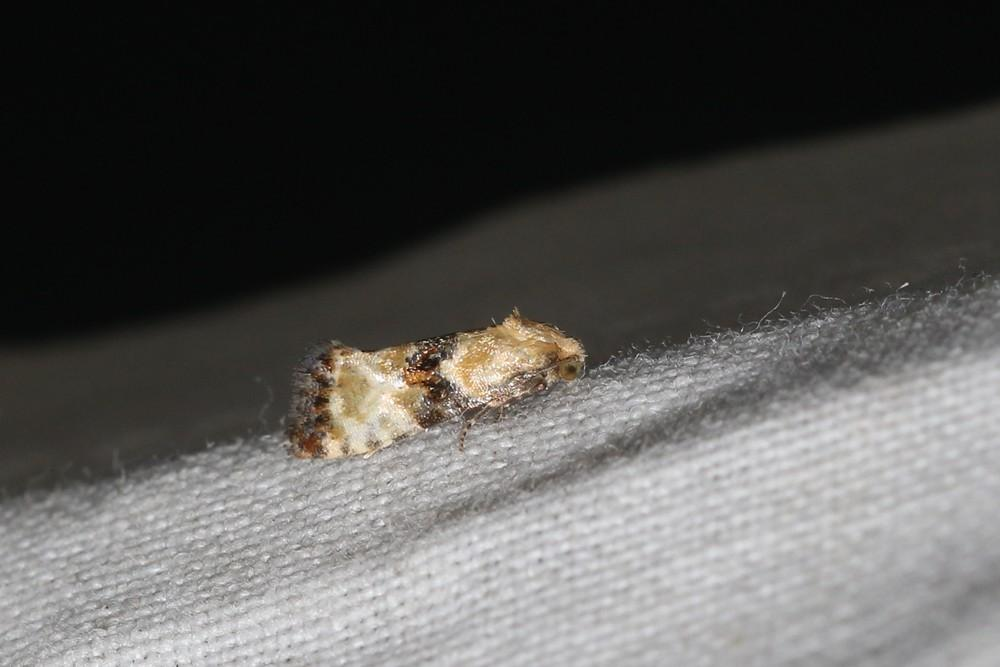Eupoecilia Ambiguella: (282, 305, 590, 463)
